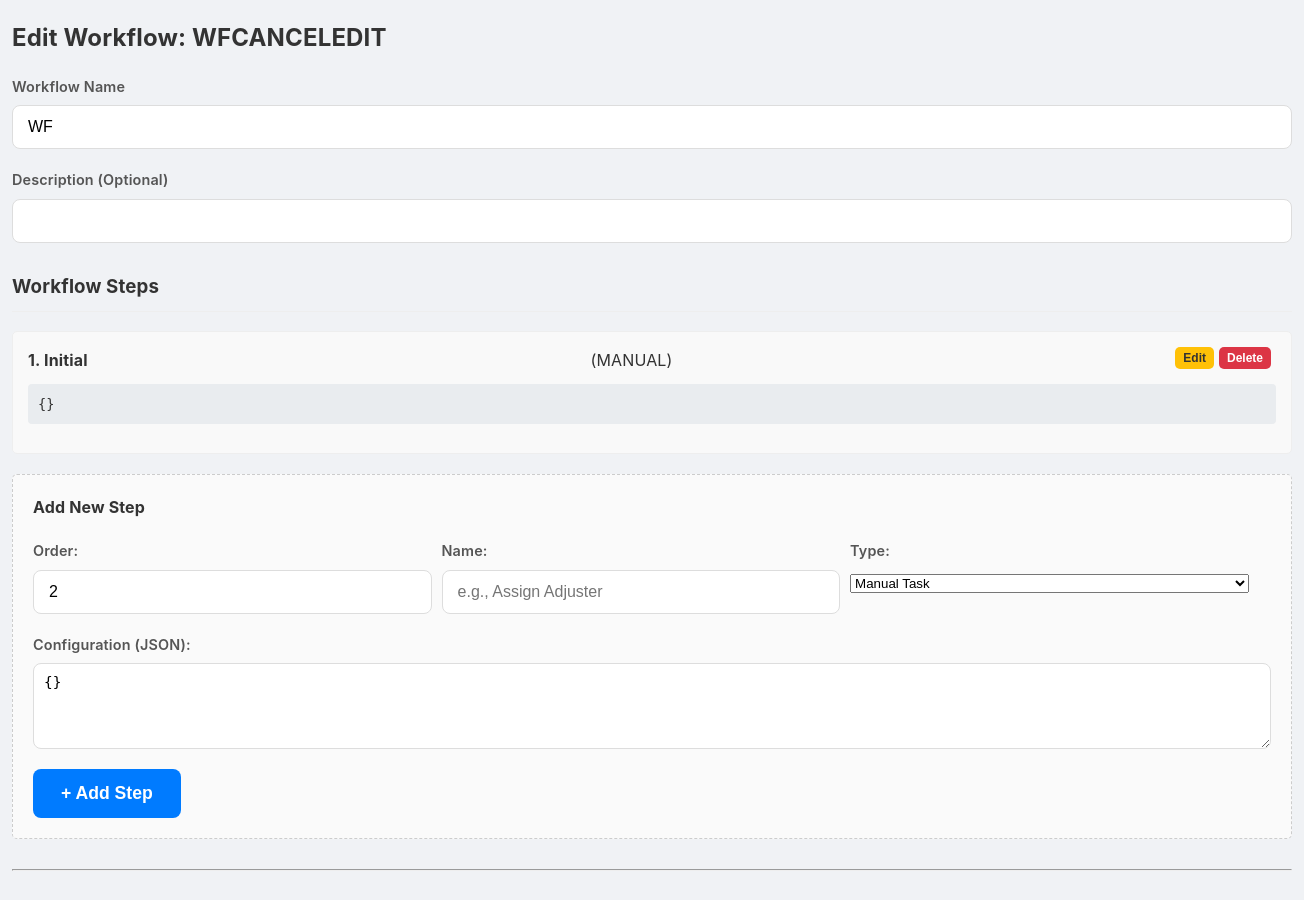
Test: WorkflowEditor › cancel edit resets form state
Click the button "Edit" at (1195, 358), box [1175,347,1214,369]
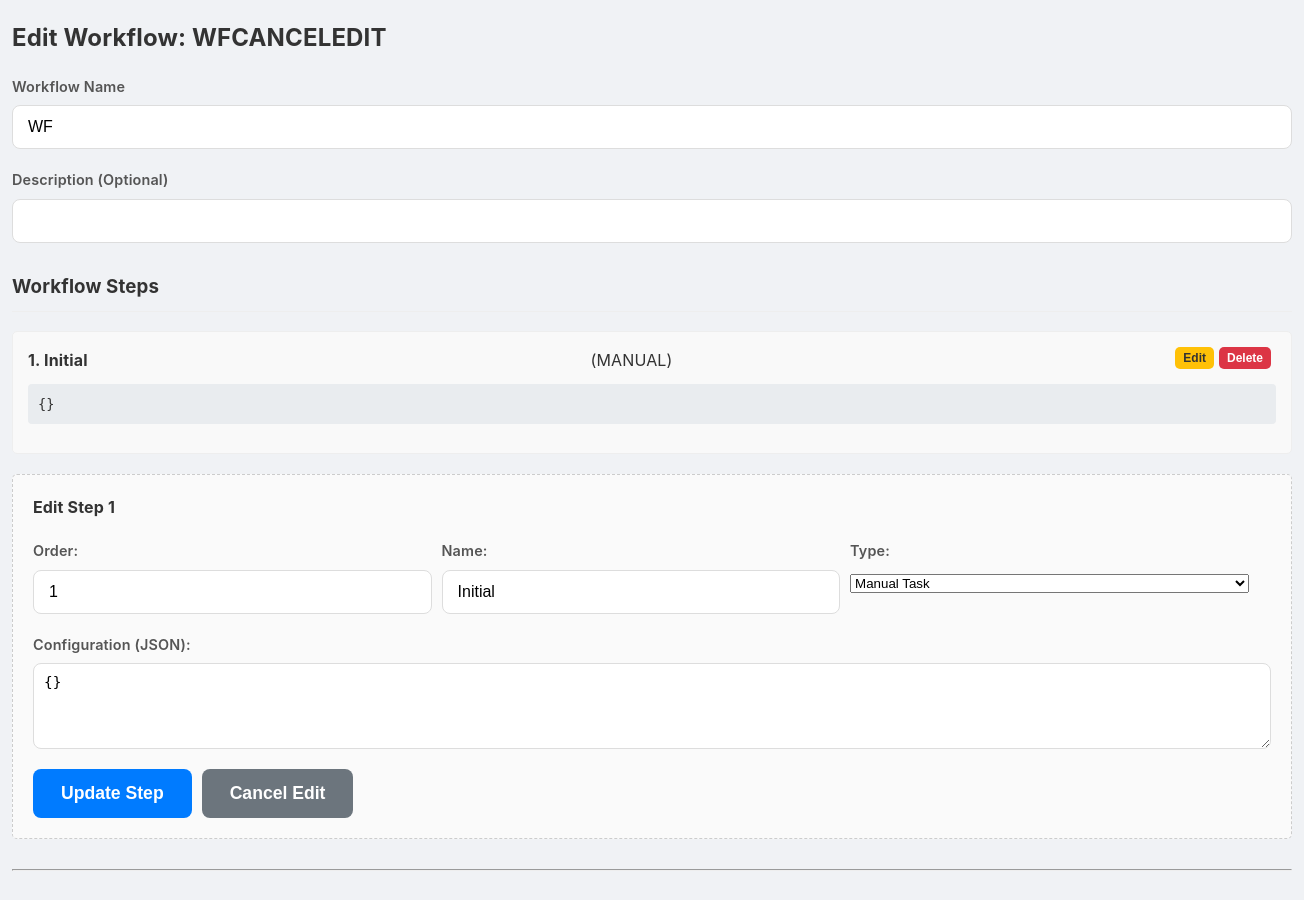
// Update name field then cancel
Replace the text in the field with placeholder "e.g., Assign Adjuster" below "Name:" with "Changed Name" at (641, 592), box [442,570,840,614]
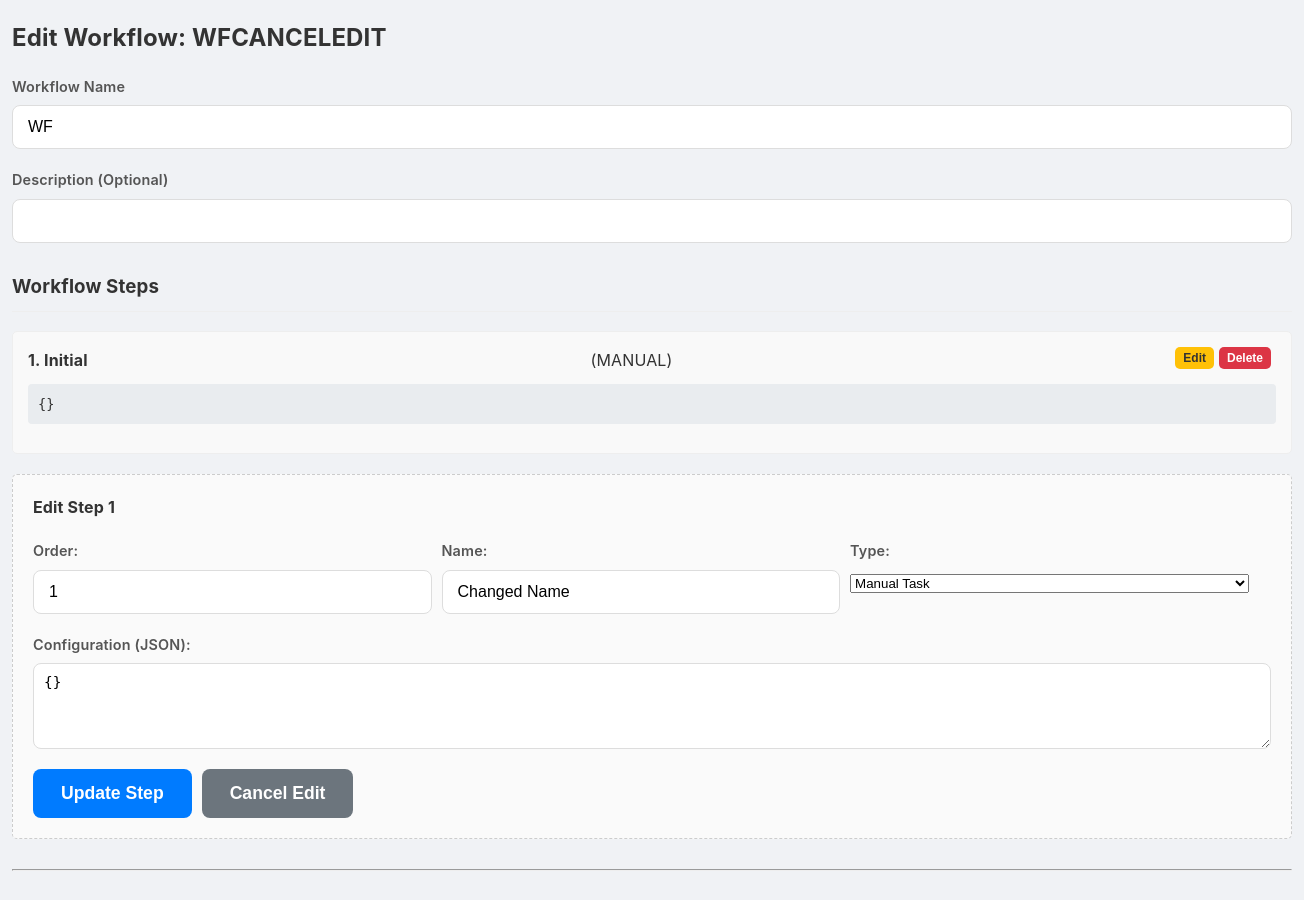
Click the button "Cancel Edit" at (278, 794), box [202,769,354,818]
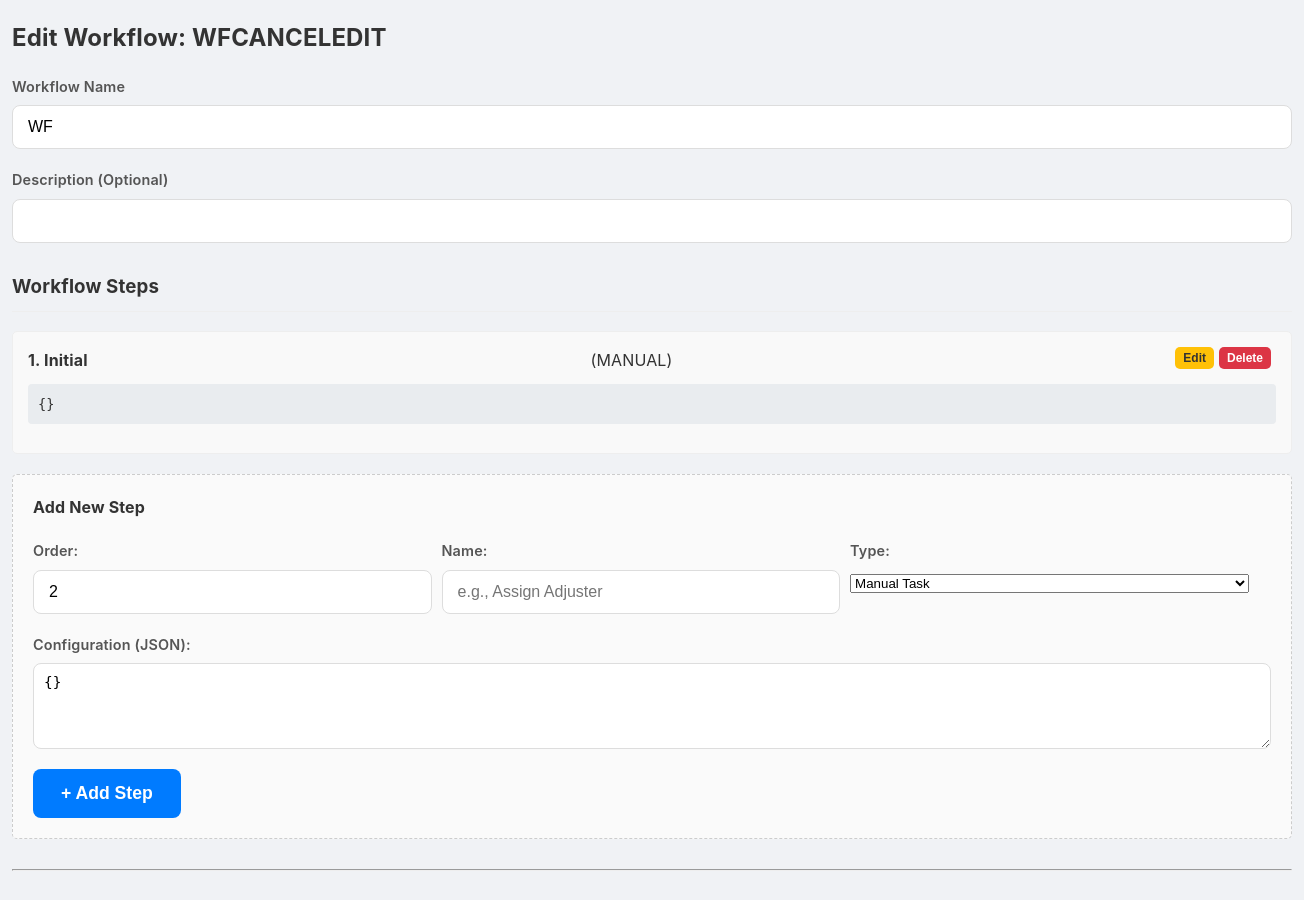
Result: the heading "Add New Step" is shown at [33,497,145,517]
